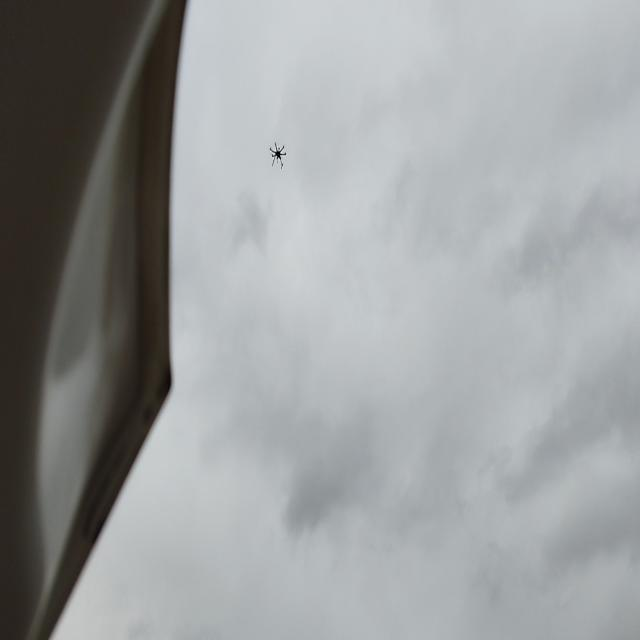drone: (268, 137, 288, 172)
